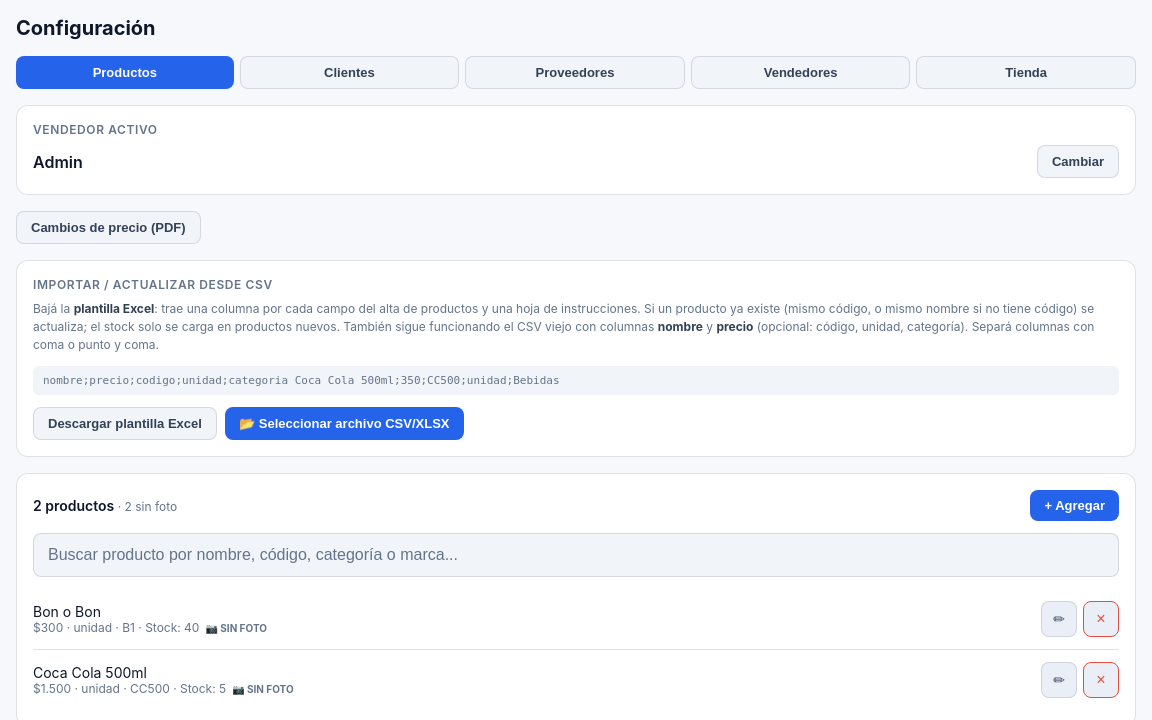
Test: Clientes (REQ-CLI) › AC-CLI-1 AC-COMR-1 "+ Agregar" en clientes abre el formulario de 16 campos
The image size is (1152, 720).
Click the button "clientes": x=349, y=72 [240,56,459,89]
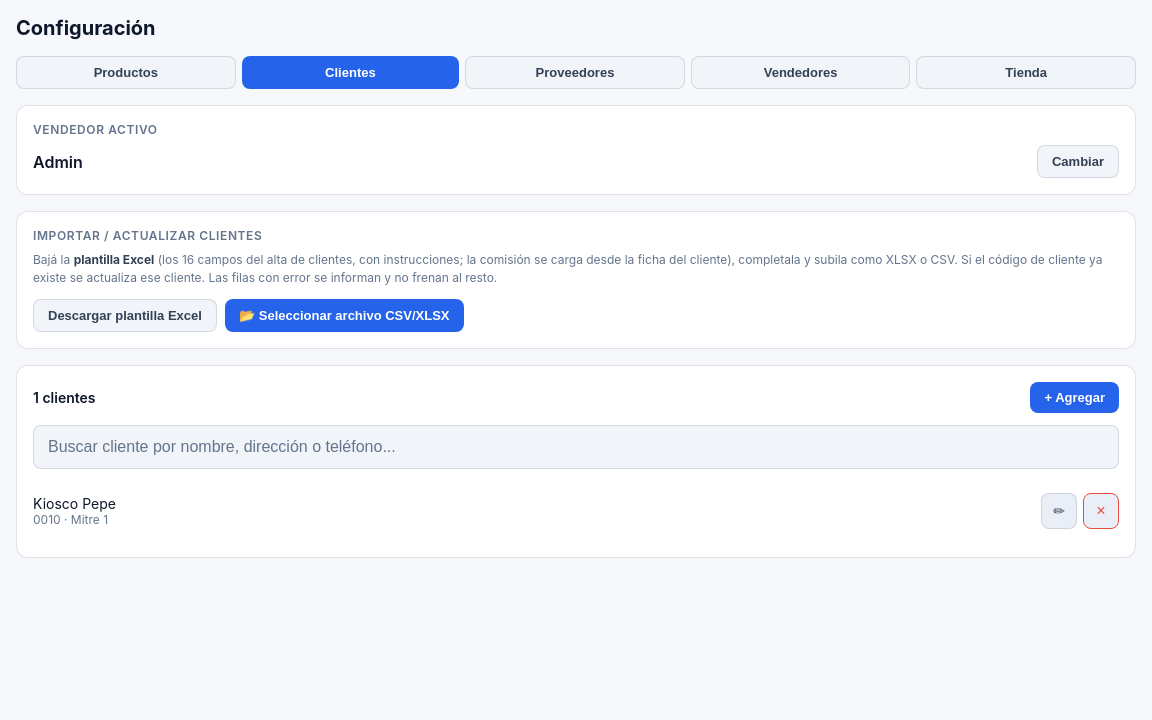
Click the button "+ Agregar": x=1075, y=398 [1030,382,1119,413]
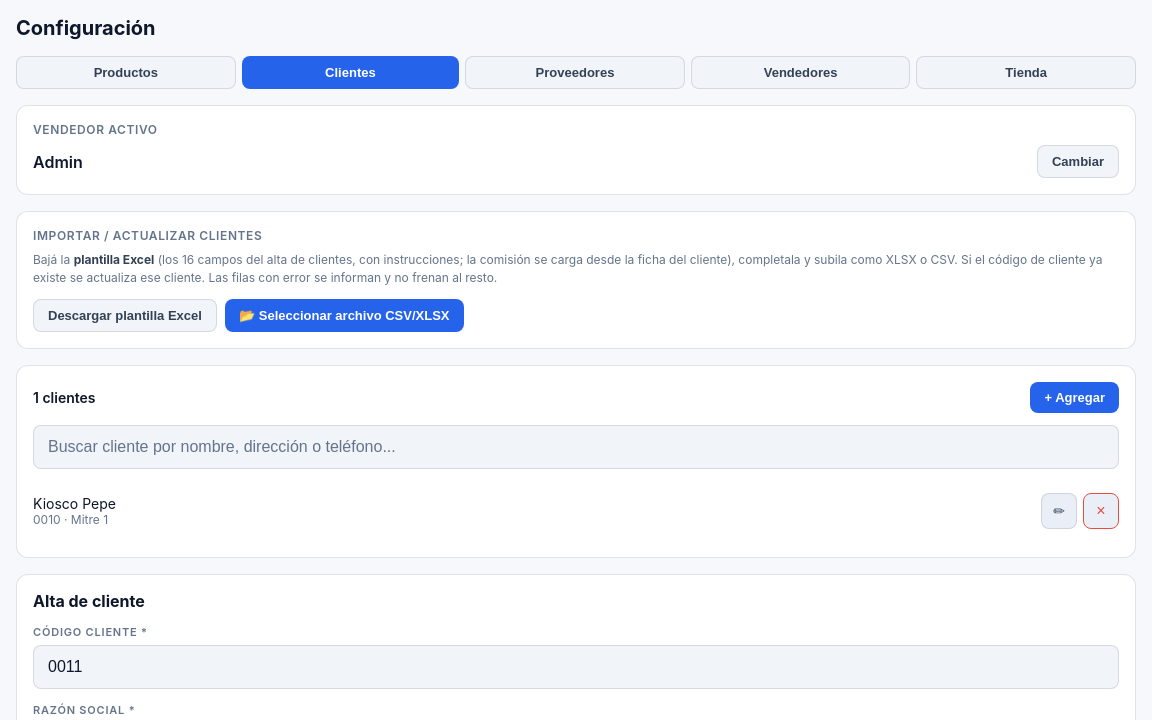
Now the number of labels with class "input-label" is 16
